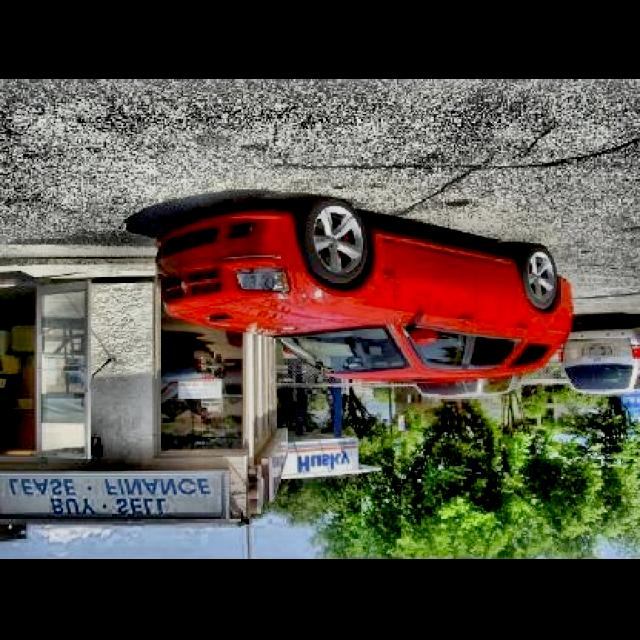red: (131, 206, 596, 394)
